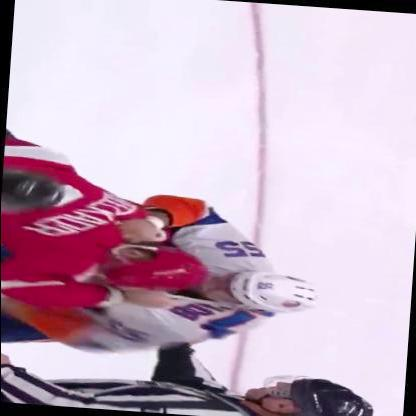voilence: (1, 173, 330, 369)
